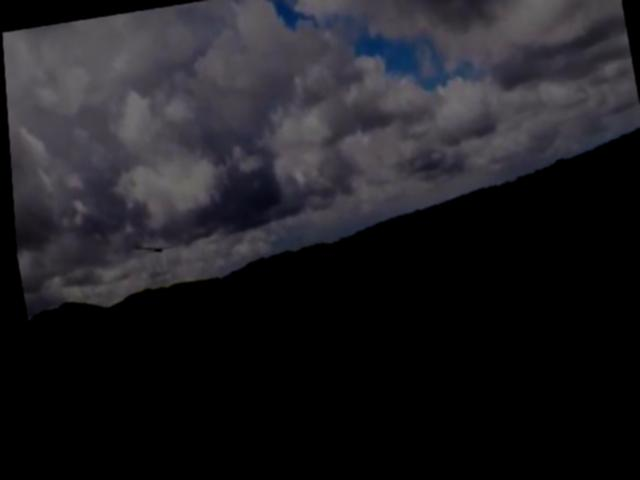iha: (127, 230, 175, 264)
